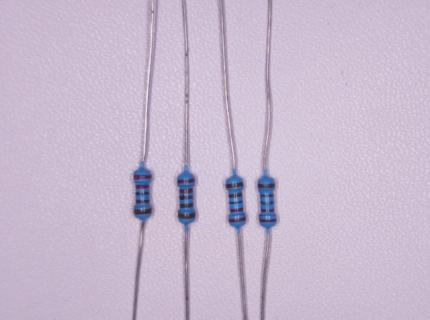Black band: (135, 191, 150, 196), (229, 200, 243, 205), (180, 195, 194, 200), (261, 200, 274, 205)
Brown band: (134, 208, 152, 215), (178, 212, 196, 219), (226, 182, 244, 188), (258, 183, 276, 188), (229, 192, 243, 198), (136, 199, 150, 204), (180, 203, 193, 208), (260, 194, 273, 197)
Red band: (229, 216, 246, 223), (177, 178, 195, 183), (133, 175, 152, 179), (259, 218, 277, 222), (179, 188, 193, 193), (230, 207, 243, 212), (136, 184, 150, 188), (261, 208, 275, 212)
